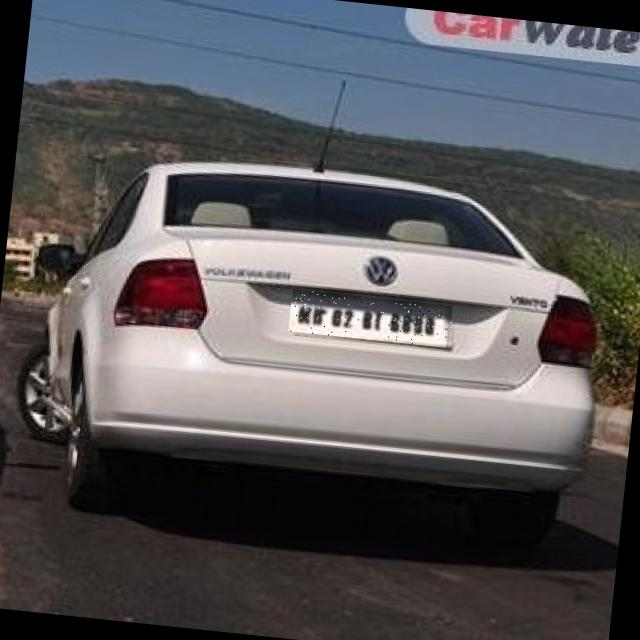Plate: (289, 290, 455, 349)
